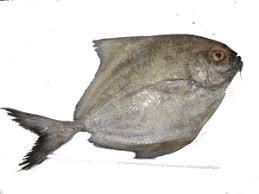Ikan Bawal: (5, 24, 246, 173)
